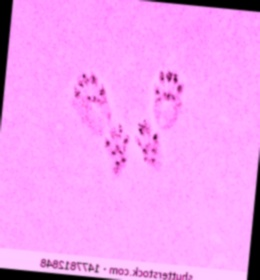ecureuil: (59, 56, 139, 187), (129, 57, 189, 181)
